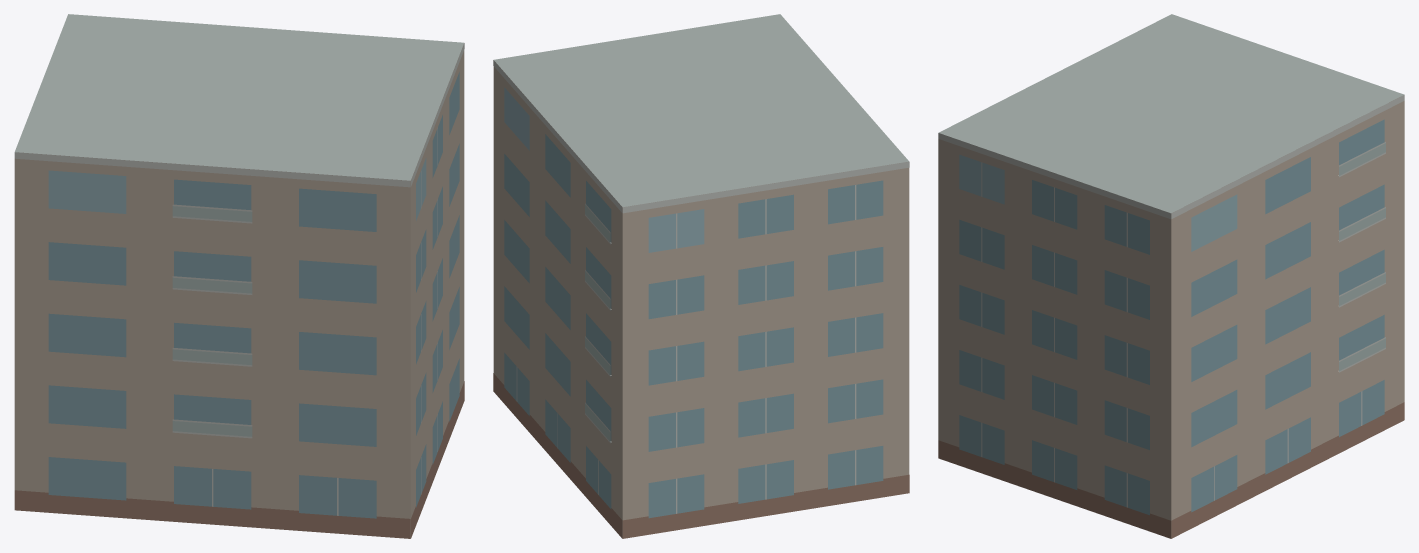
The model's file is survey-upis-32962171.glb.
The picture shows the model from 3 angles, left to right: view 1: azimuth 30°, elevation 25°; view 2: azimuth 150°, elevation 25°; view 3: azimuth 270°, elevation 25°; orthographic projection. The views are drawn at different scales.
Parts seen in each view (by area): view 1: survey-upis-32962171.tmp; view 2: survey-upis-32962171.tmp; view 3: survey-upis-32962171.tmp.
Part boxes in pixels (x1,y1,x2,y2): survey-upis-32962171.tmp: [14, 14, 464, 538]; survey-upis-32962171.tmp: [493, 14, 909, 538]; survey-upis-32962171.tmp: [938, 14, 1404, 538].
Bounding box in the file's own units: 17.35 × 13.2 × 17.14.
